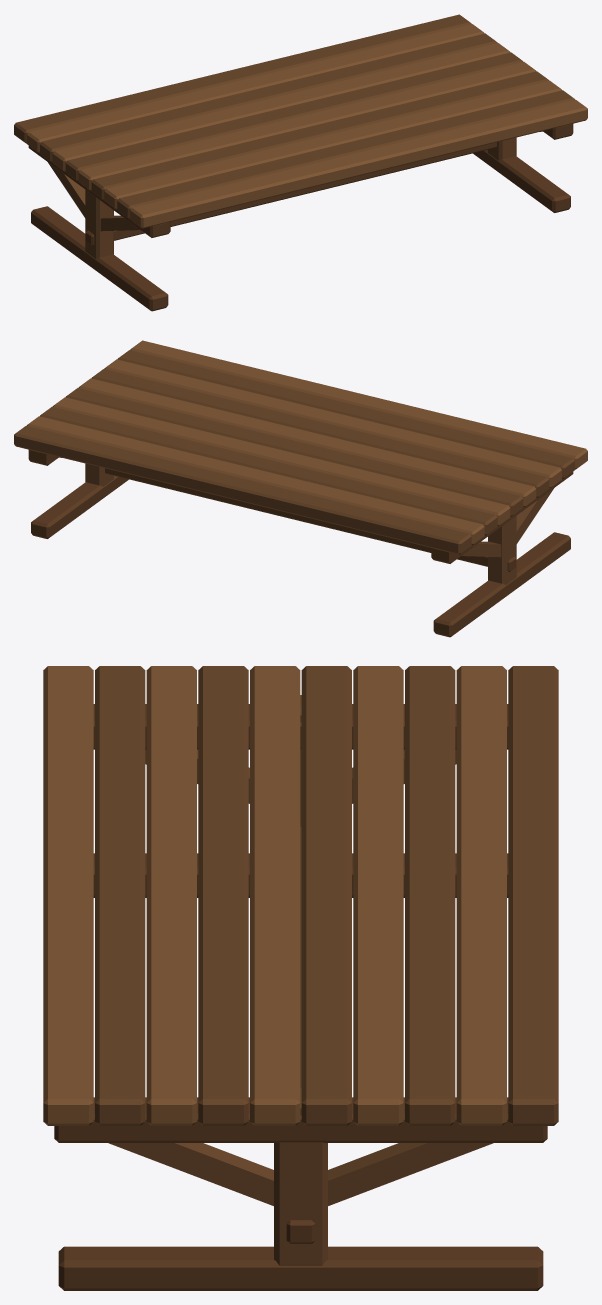
Rendered from communal_table.glb.
The picture shows the model from 3 angles, top to bottom: view 1: azimuth 30°, elevation 25°; view 2: azimuth 150°, elevation 25°; view 3: azimuth 270°, elevation 25°; orthographic projection. The views are drawn at different scales.
Parts seen in each view (by area): view 1: communal_table; view 2: communal_table; view 3: communal_table.
Boxes of the visible parts, bbox=[...] form: communal_table: bbox=[14, 14, 587, 311]; communal_table: bbox=[14, 340, 587, 637]; communal_table: bbox=[43, 666, 558, 1290].
Bounding box in the file's own units: 8 × 1.75 × 3.99.
